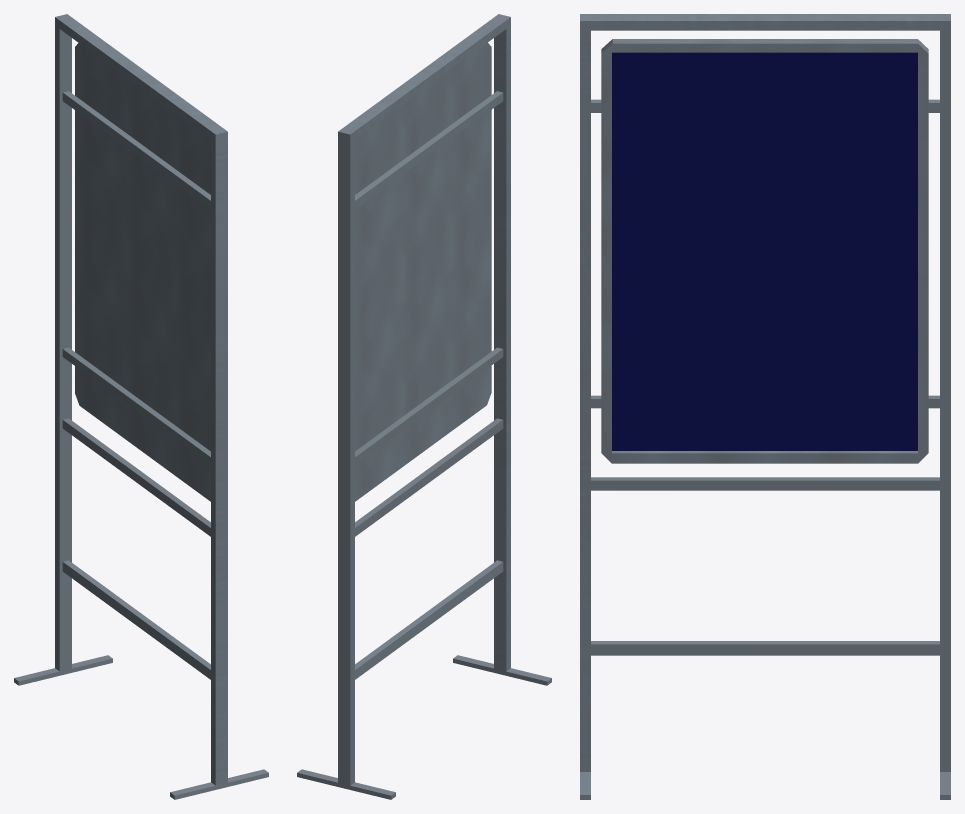
The model's file is PlakatAufsteller.fbx.
The picture shows the model from 3 angles, left to right: view 1: azimuth 30°, elevation 25°; view 2: azimuth 150°, elevation 25°; view 3: azimuth 270°, elevation 25°; orthographic projection. The views are drawn at different scales.
Parts seen in each view (by area): view 1: rahmen; view 2: rahmen; view 3: rahmen.
Boxes of the visible parts, <box> form: rahmen: <box>14,14,268,799</box>; rahmen: <box>297,14,551,799</box>; rahmen: <box>580,14,950,799</box>.
Bounding box in the file's own units: 23 × 153 × 68.
